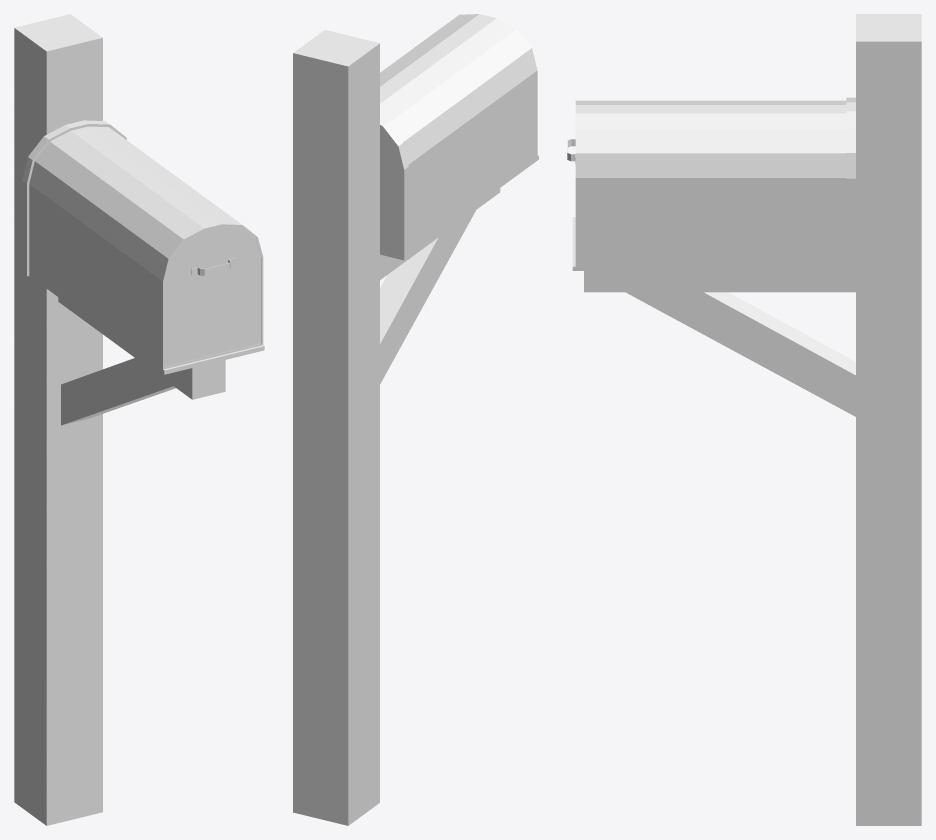
The model's file is Prop_Letterbox_01.glb.
3 renders of one model, left to right at view 1: azimuth 30°, elevation 25°; view 2: azimuth 150°, elevation 25°; view 3: azimuth 270°, elevation 25°, orthographic. The views are drawn at different scales.
Parts seen in each view (by area): view 1: Prop_Letterbox_01, Prop_Letterbox_Door_01; view 2: Prop_Letterbox_01, Prop_Letterbox_Door_01; view 3: Prop_Letterbox_01, Prop_Letterbox_Door_01.
Boxes of the visible parts, box(x1,y1,x2,y2) form: Prop_Letterbox_01: box(14, 14, 239, 825); Prop_Letterbox_Door_01: box(160, 222, 264, 374); Prop_Letterbox_01: box(293, 15, 535, 825); Prop_Letterbox_Door_01: box(457, 14, 538, 161); Prop_Letterbox_01: box(580, 14, 921, 825); Prop_Letterbox_Door_01: box(567, 100, 580, 270).
Size of the model in its own units: 0.2054 by 1.44 by 0.5909.
1 material, 1 textured.
